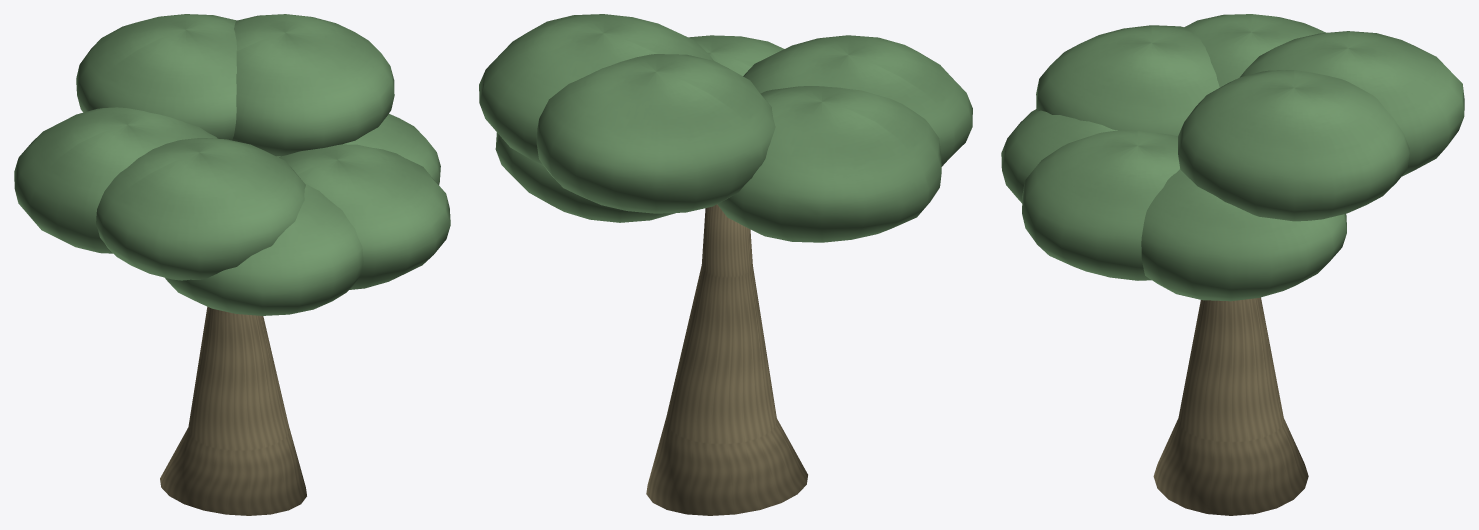
File: swamp_tupelo_swamp_and_mangrove_22599.glb
3 views of the same model, side by side, from view 1: azimuth 30°, elevation 25°; view 2: azimuth 150°, elevation 25°; view 3: azimuth 270°, elevation 25° (orthographic). The views are drawn at different scales.
Parts seen in each view (by area): view 1: swamp-tupelo; view 2: swamp-tupelo; view 3: swamp-tupelo.
Boxes of the visible parts, x1,y1,x2,y2 form: swamp-tupelo: [14, 14, 450, 515]; swamp-tupelo: [479, 14, 972, 515]; swamp-tupelo: [1001, 14, 1464, 515].
Size of the model in its own units: 5.74 by 5.94 by 5.67.
2 materials, 2 textured.
